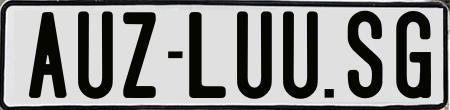A: (28, 11, 70, 100)
G: (396, 9, 437, 101)
L: (189, 11, 226, 99)
S: (348, 9, 387, 96)
U: (281, 9, 322, 102), (77, 10, 112, 99), (236, 10, 271, 99)
Z: (123, 10, 161, 98)
